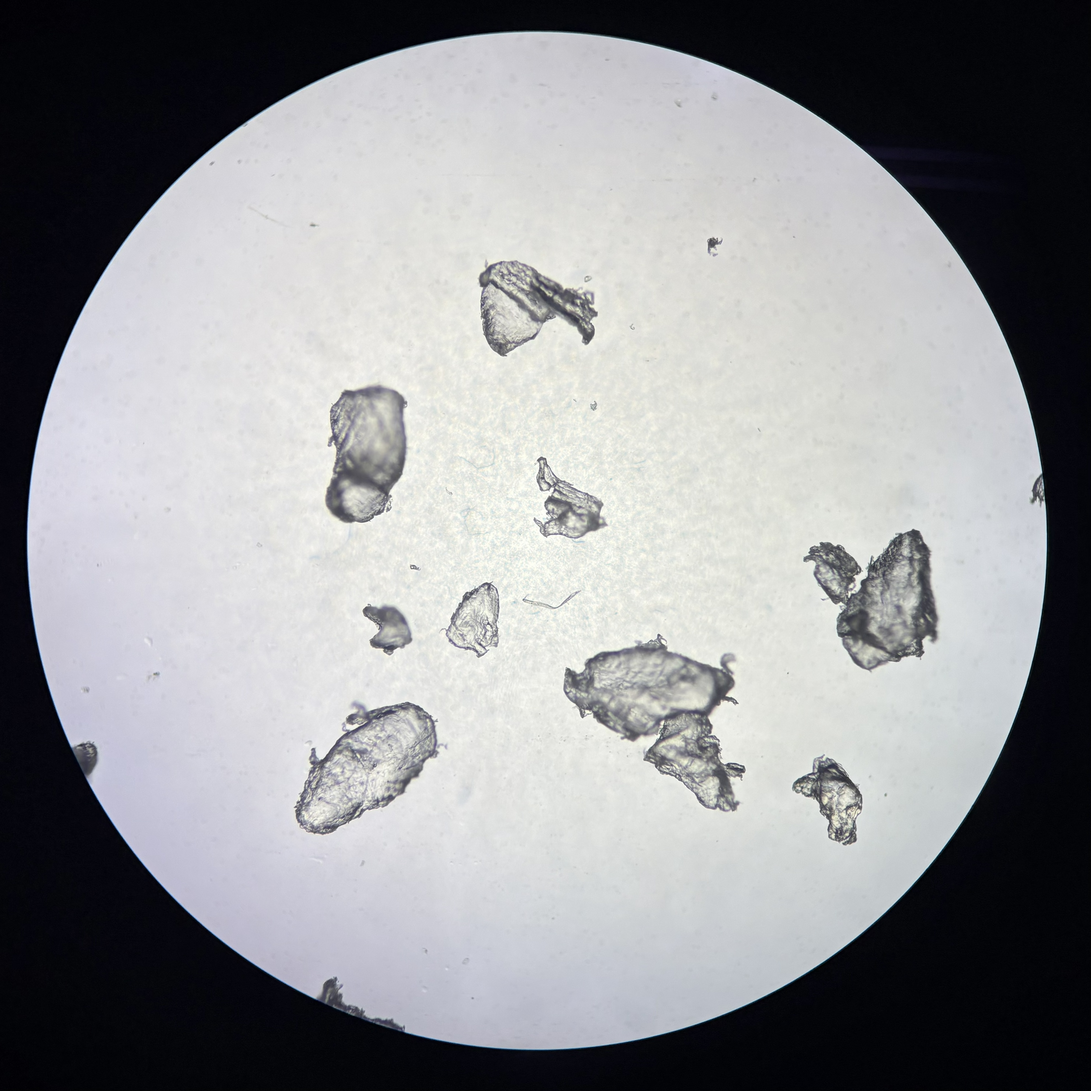microplastic: (564, 636, 746, 812), (805, 530, 939, 669), (296, 704, 437, 832), (480, 256, 599, 354), (327, 383, 407, 524), (792, 754, 863, 843), (535, 458, 609, 538), (317, 977, 409, 1040), (448, 585, 499, 658), (365, 605, 412, 657), (73, 738, 99, 776), (1030, 469, 1046, 507), (708, 234, 722, 258)
